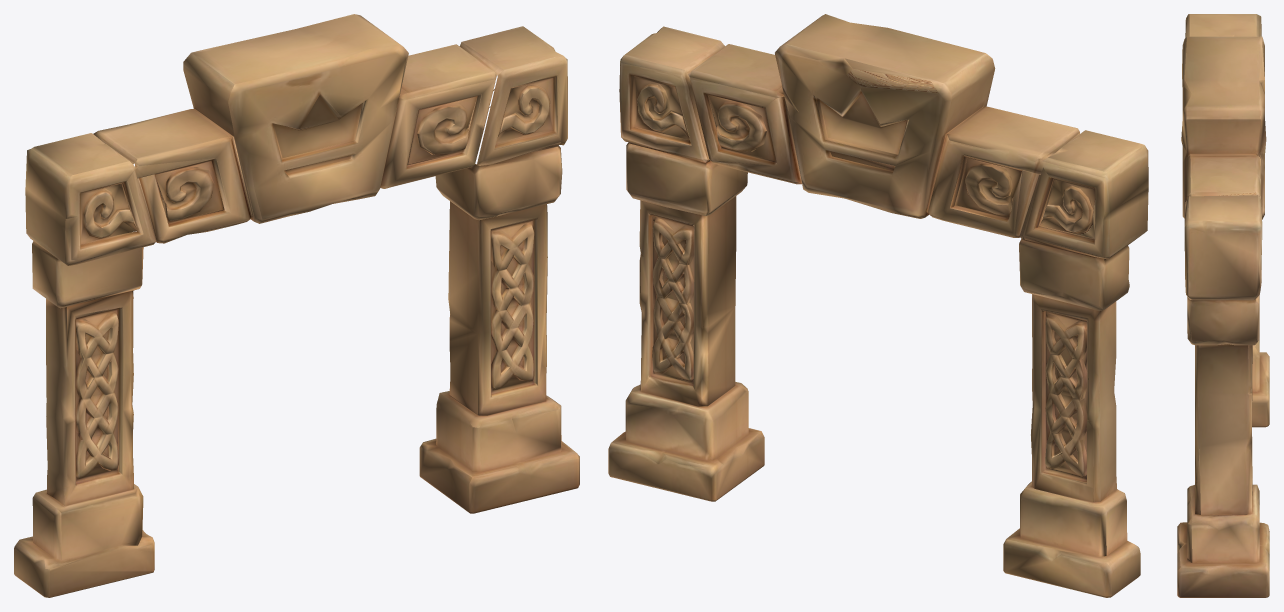
File: asset.glb
3 views of the same model, side by side, from view 1: azimuth 30°, elevation 25°; view 2: azimuth 150°, elevation 25°; view 3: azimuth 270°, elevation 25° (orthographic). The views are drawn at different scales.
Visible parts, largest first — view 1: tripo_node_c57cfa38-d1d4-4968-b4a6-d1694f17d0f0; view 2: tripo_node_c57cfa38-d1d4-4968-b4a6-d1694f17d0f0; view 3: tripo_node_c57cfa38-d1d4-4968-b4a6-d1694f17d0f0.
Part boxes in pixels (x1,y1,x2,y2): tripo_node_c57cfa38-d1d4-4968-b4a6-d1694f17d0f0: (14, 14, 579, 597); tripo_node_c57cfa38-d1d4-4968-b4a6-d1694f17d0f0: (608, 14, 1148, 597); tripo_node_c57cfa38-d1d4-4968-b4a6-d1694f17d0f0: (1177, 14, 1269, 597).
Size of the model in its own units: 50.33 by 44.96 by 9.
1 material, 1 textured.
